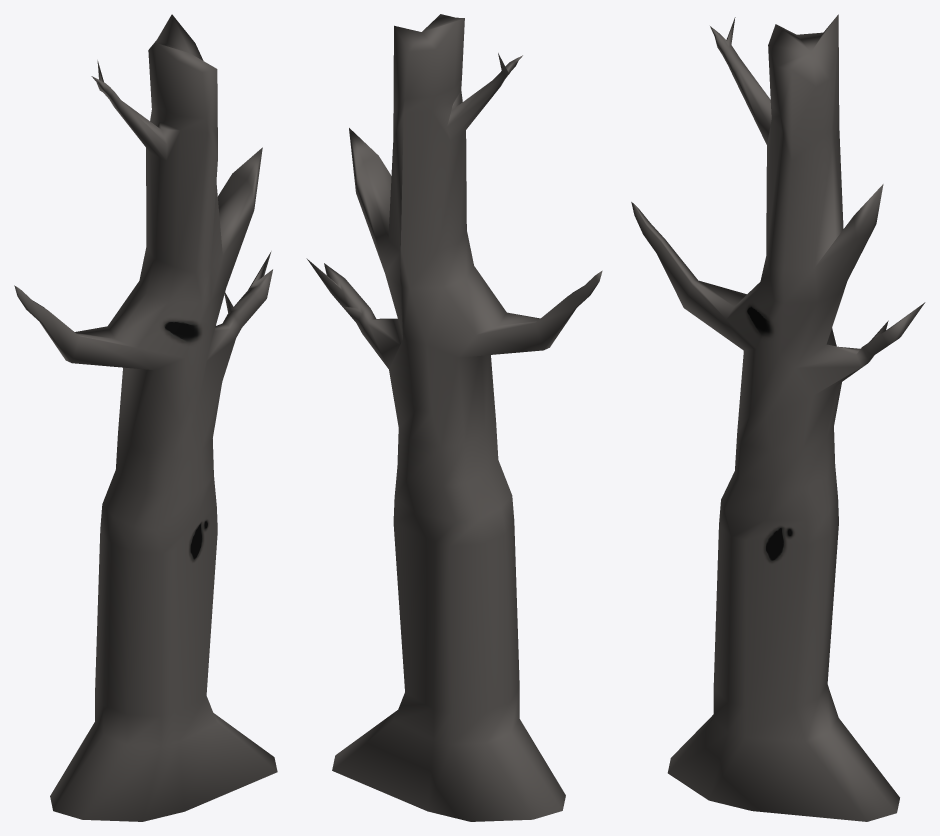
File: Tree_Dead1.fbx
3 views of the same model, side by side, from view 1: azimuth 30°, elevation 25°; view 2: azimuth 150°, elevation 25°; view 3: azimuth 330°, elevation 25° (orthographic). The views are drawn at different scales.
Visible parts, largest first — view 1: pCylinder5; view 2: pCylinder5; view 3: pCylinder5.
Boxes of the visible parts, bbox=[...] form: pCylinder5: bbox=[14, 14, 277, 821]; pCylinder5: bbox=[306, 14, 602, 821]; pCylinder5: bbox=[631, 14, 925, 821].
Size of the model in its own units: 0.8702 by 2.3 by 0.2886.
